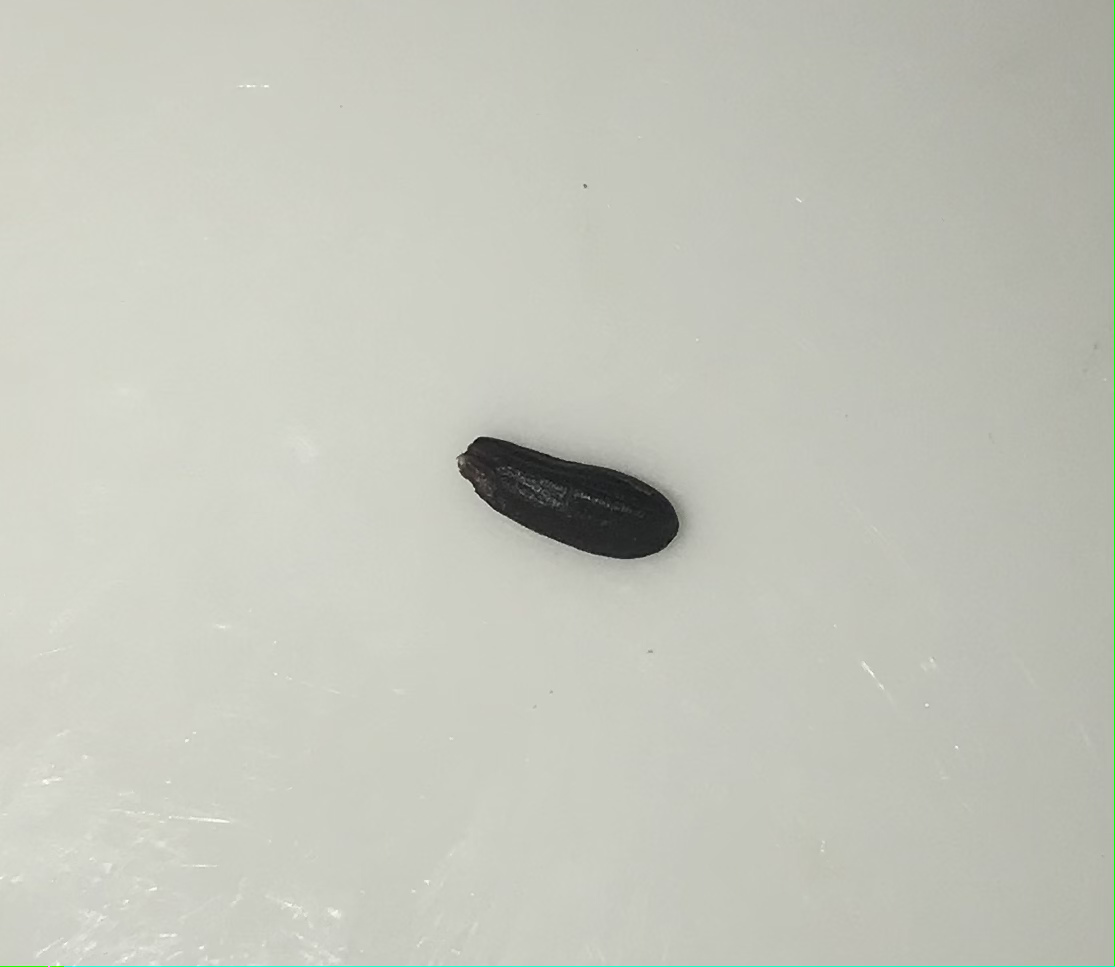Gao lut: (456, 420, 683, 569)
